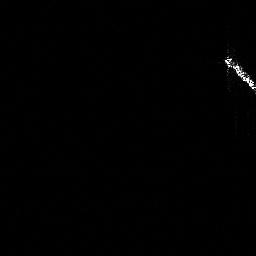ship: (223, 54, 256, 91)
